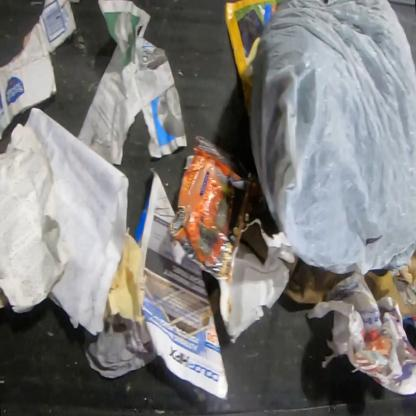cardboard: (0, 0, 77, 142), (284, 255, 354, 305), (363, 269, 415, 317)
soft_plastic: (248, 0, 415, 277), (168, 133, 266, 283)
